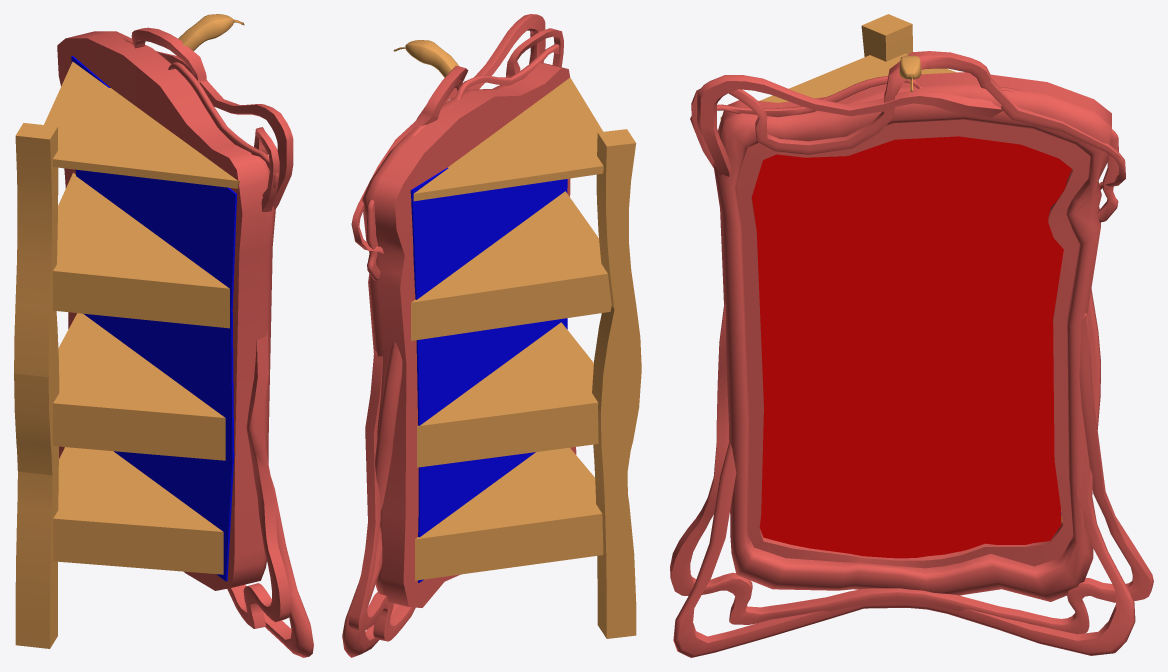
File: Mirror3.fbx
3 views of the same model, side by side, from view 1: azimuth 30°, elevation 25°; view 2: azimuth 150°, elevation 25°; view 3: azimuth 270°, elevation 25° (orthographic). The views are drawn at different scales.
Visible parts, largest first — view 1: Cube.006, Vert, Cube, Plane, Vert.003, Vert.001, Vert.002, Vert.005, Cube.004; view 2: Cube.006, Vert, Cube, Plane, Vert.003, Vert.002, Vert.005, Vert.001, Cube.004; view 3: Cube, Vert, Vert.003, Vert.002, Vert.001, Cube.006, Vert.005, Plane.
Part boxes in pixels (<box>): Cube.006: <box>44,61,239,574</box>; Vert: <box>57,31,275,590</box>; Cube: <box>71,56,237,581</box>; Plane: <box>14,123,59,648</box>; Vert.003: <box>59,27,290,628</box>; Vert.001: <box>156,51,293,210</box>; Vert.002: <box>243,477,313,657</box>; Vert.005: <box>123,37,279,197</box>; Cube.004: <box>178,14,244,50</box>; Cube.006: <box>411,77,611,580</box>; Vert: <box>362,62,570,607</box>; Cube: <box>410,167,567,582</box>; Plane: <box>592,129,641,638</box>; Vert.003: <box>348,28,576,641</box>; Vert.002: <box>342,342,402,657</box>; Vert.005: <box>366,44,559,280</box>; Vert.001: <box>416,14,545,120</box>; Cube.004: <box>393,40,458,77</box>; Cube: <box>751,136,1071,558</box>; Vert: <box>713,72,1111,601</box>; Vert.003: <box>670,51,1153,634</box>; Vert.002: <box>673,288,1135,657</box>; Vert.001: <box>697,75,1002,176</box>; Cube.006: <box>720,53,1062,522</box>; Vert.005: <box>690,76,1119,222</box>; Plane: <box>861,14,912,61</box>.
Bounding box in the file's own units: 96.75 × 216 × 155.
